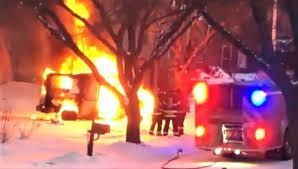fire: (39, 9, 131, 134), (138, 83, 155, 134), (192, 80, 208, 102)
